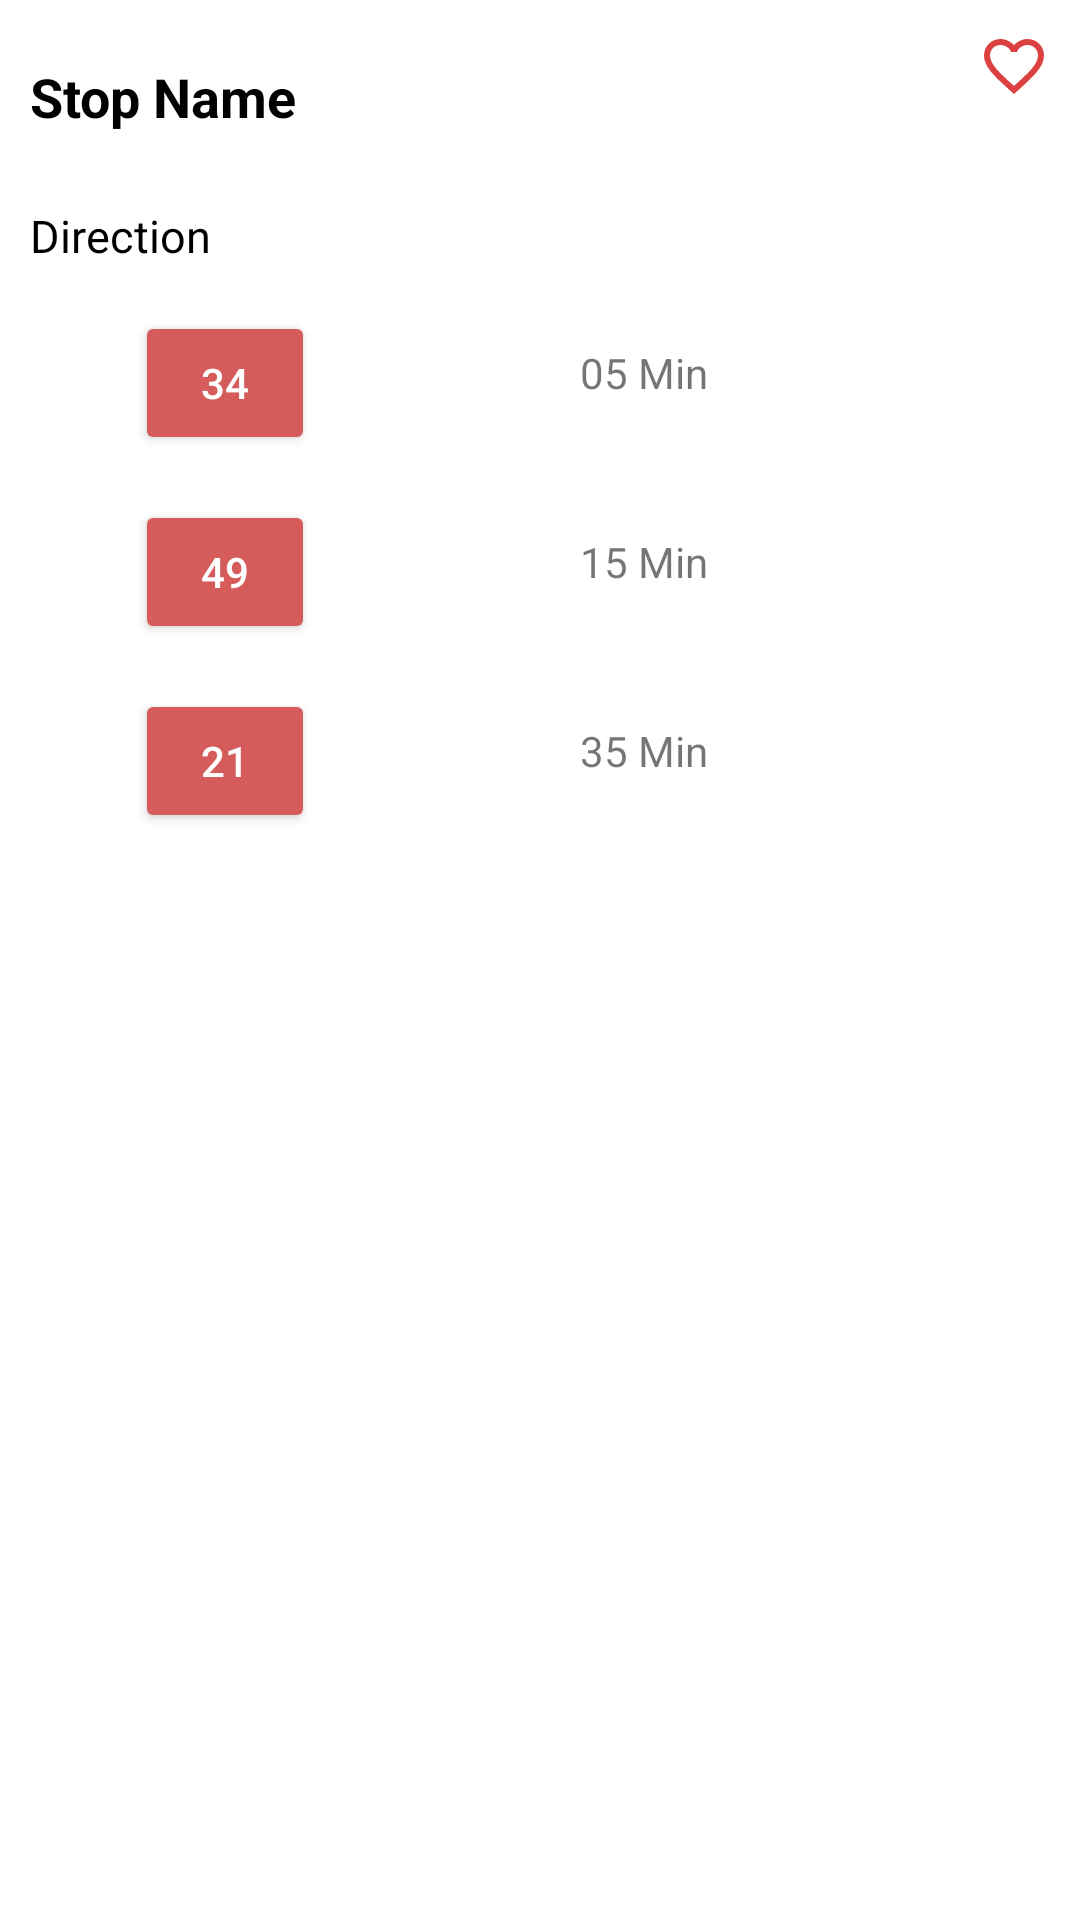

Screen size 1080×1920. Icon name, then its center in pixels as point (x, y):
fav: point (1014, 66)
